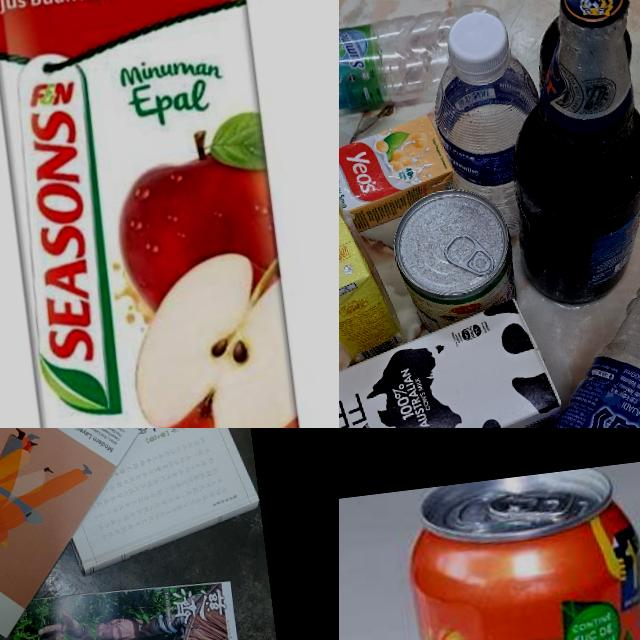aba de lata: (486, 485, 578, 526), (442, 229, 496, 280)
caixinha: (0, 0, 313, 428), (339, 292, 572, 428), (339, 112, 461, 241), (339, 194, 407, 368)
garrafa de vidro: (487, 0, 640, 309), (520, 0, 636, 83)
garrafa plástica: (467, 194, 640, 428), (432, 48, 558, 243), (339, 2, 508, 123)
lata: (393, 463, 640, 640), (386, 182, 520, 334)
papel: (0, 428, 150, 640), (51, 428, 265, 572), (0, 570, 258, 640)
tampa plástica: (446, 8, 512, 76)
